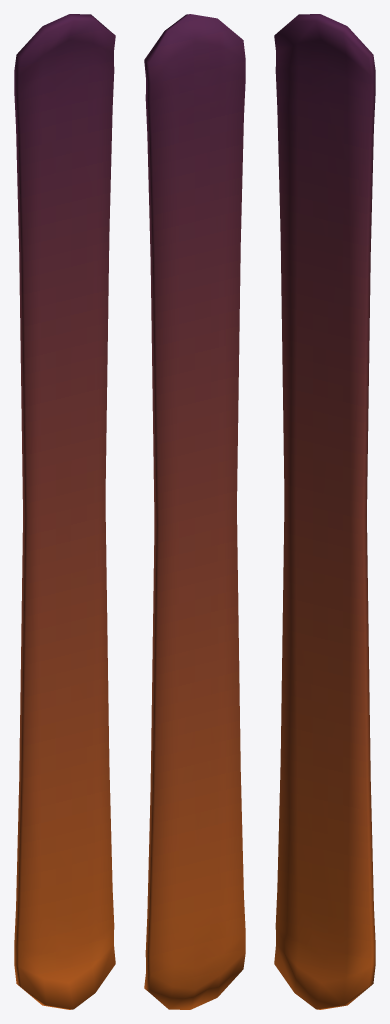
The model's file is ski models Skiling.fbx.
The picture shows the model from 3 angles, left to right: view 1: azimuth 30°, elevation 25°; view 2: azimuth 210°, elevation 25°; view 3: azimuth 330°, elevation 25°; orthographic projection.
Visible parts, largest first — view 1: lija; view 2: lija; view 3: lija.
Part boxes in pixels (x1,y1,x2,y2): lija: (14,14,115,1009); lija: (144,14,245,1009); lija: (274,14,375,1009).
Size of the model in its own units: 0.0912 by 0.9116 by 0.0204.
Materials: 1 (1 with a texture image).
